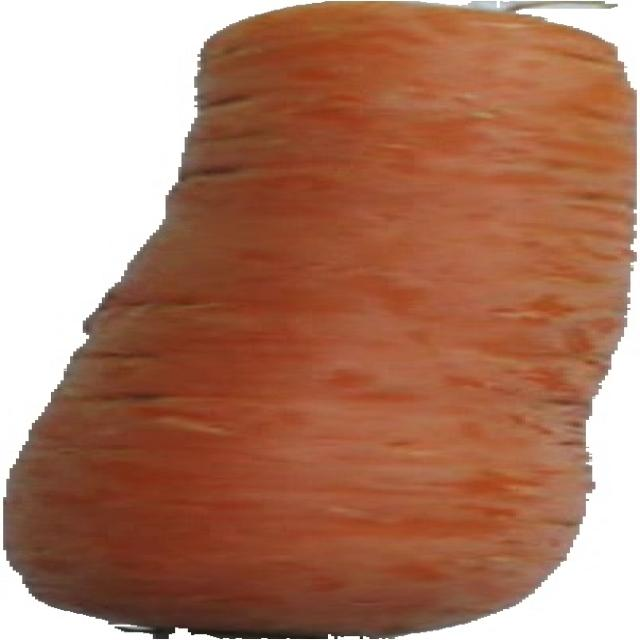carrot: (8, 2, 631, 636)
